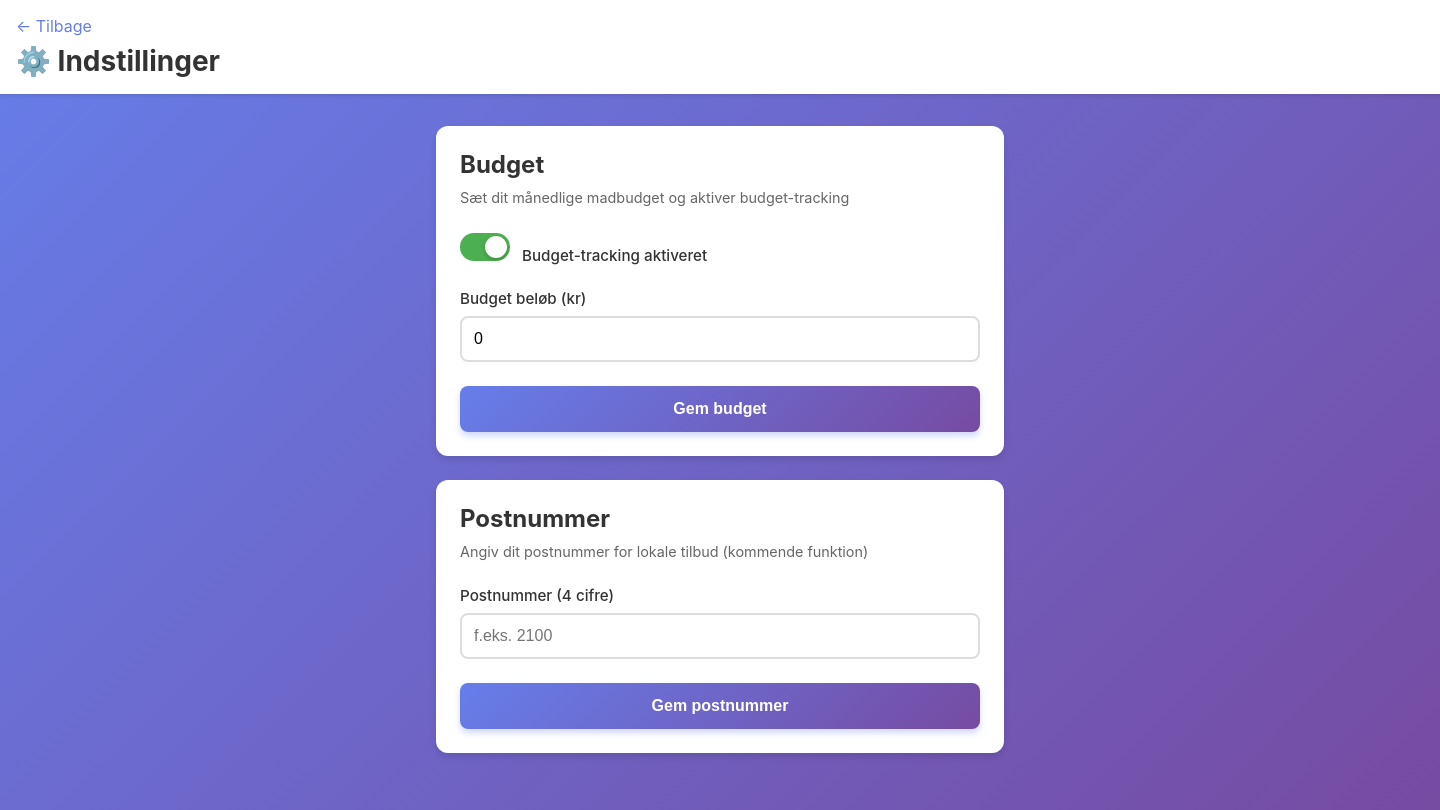
it: Indstillinger Page › Postnummer Settings › shows success message after saving postnummer
In the field labelled "Postnummer (4 cifre)": (720, 636) [460,613,980,659], type "2100"
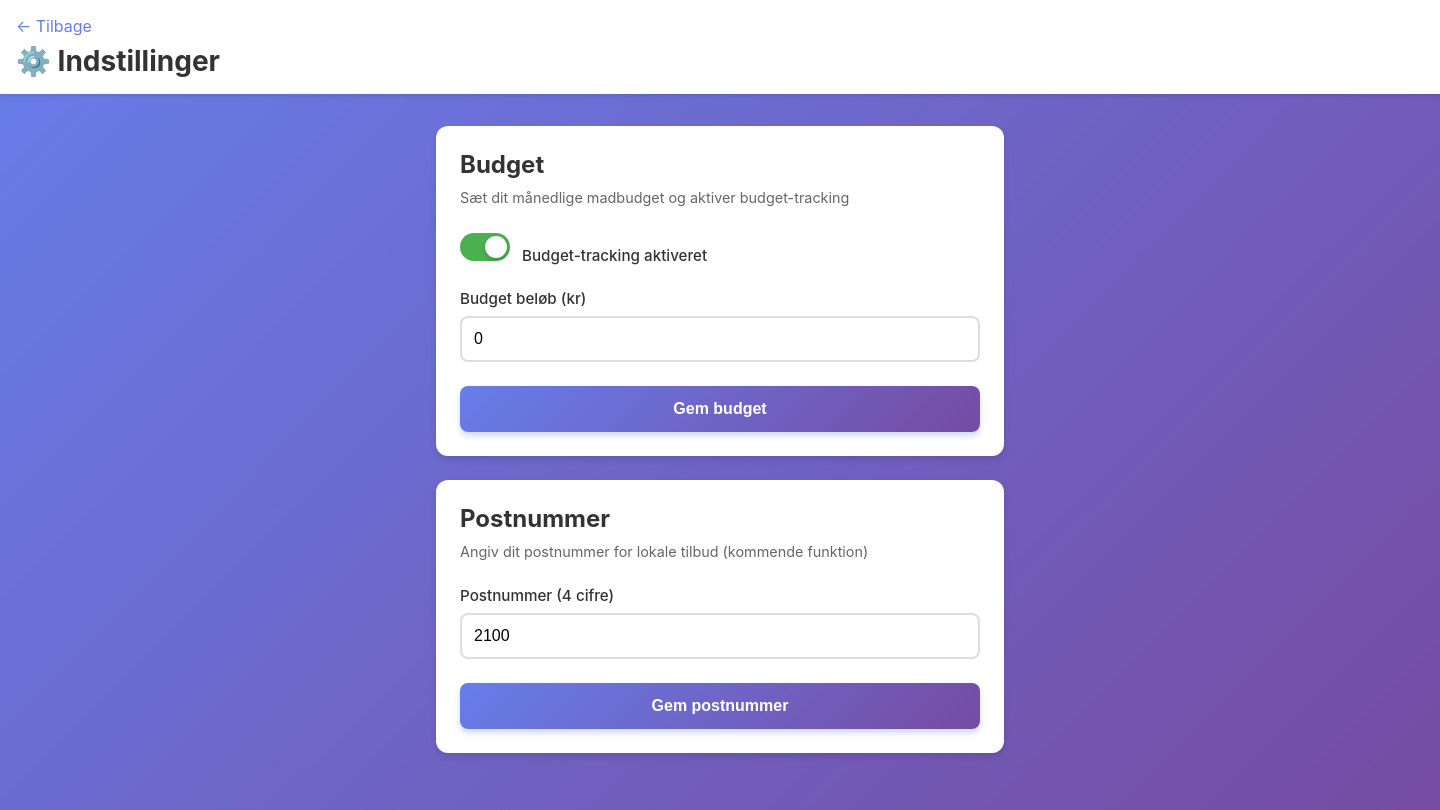
Click the button "Gem postnummer": (720, 706) [460,683,980,729]
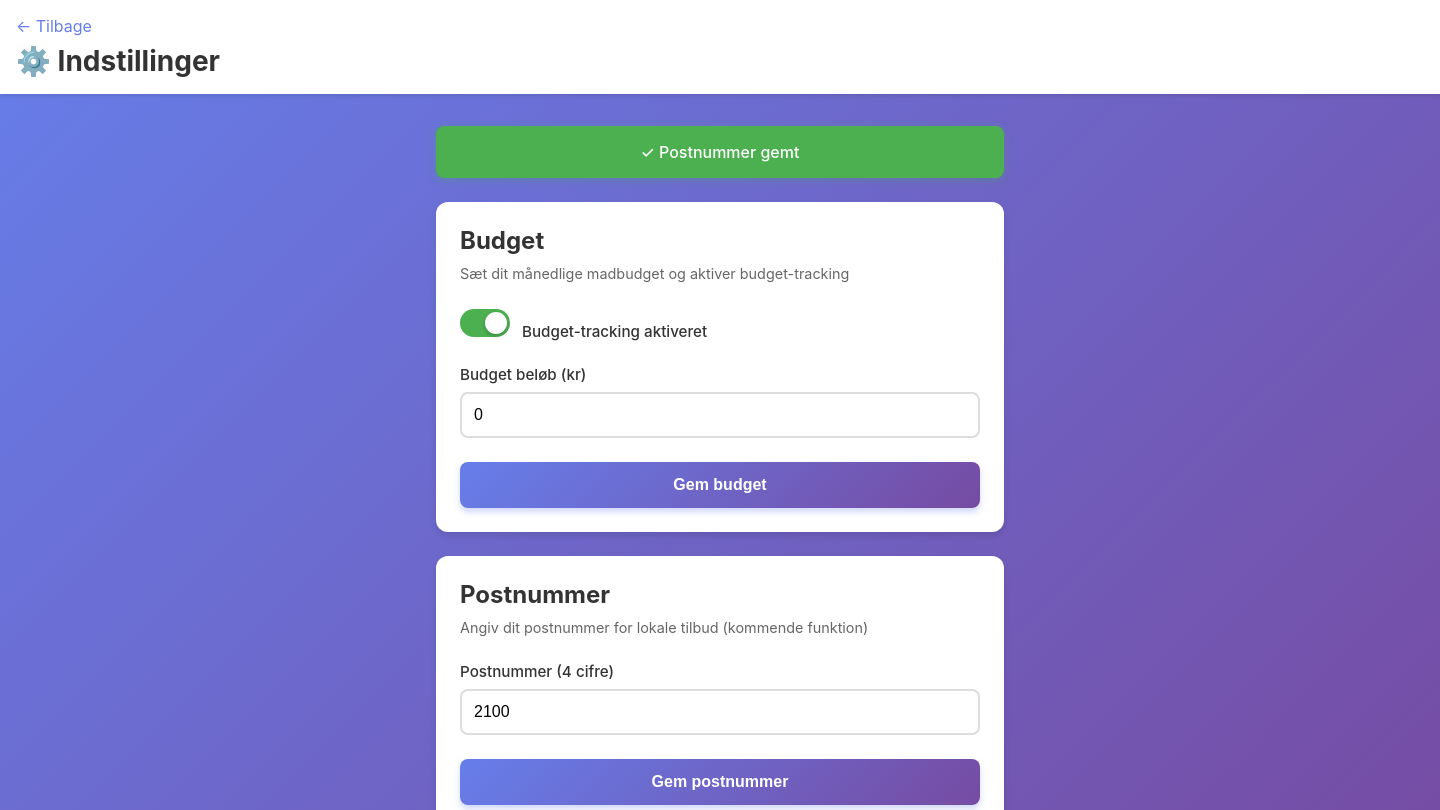
Expected: the text "✓ Postnummer gemt" is shown, [436,126,1004,178]
